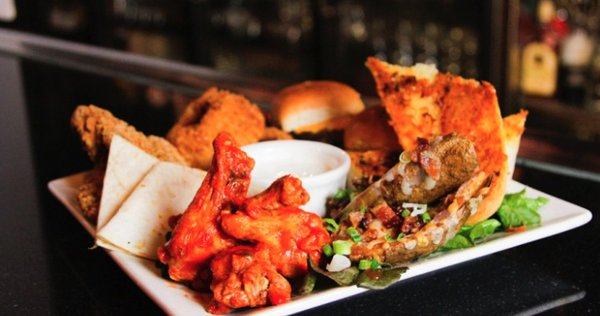soup: (330, 57, 526, 269)
sushi: (240, 139, 351, 218)
